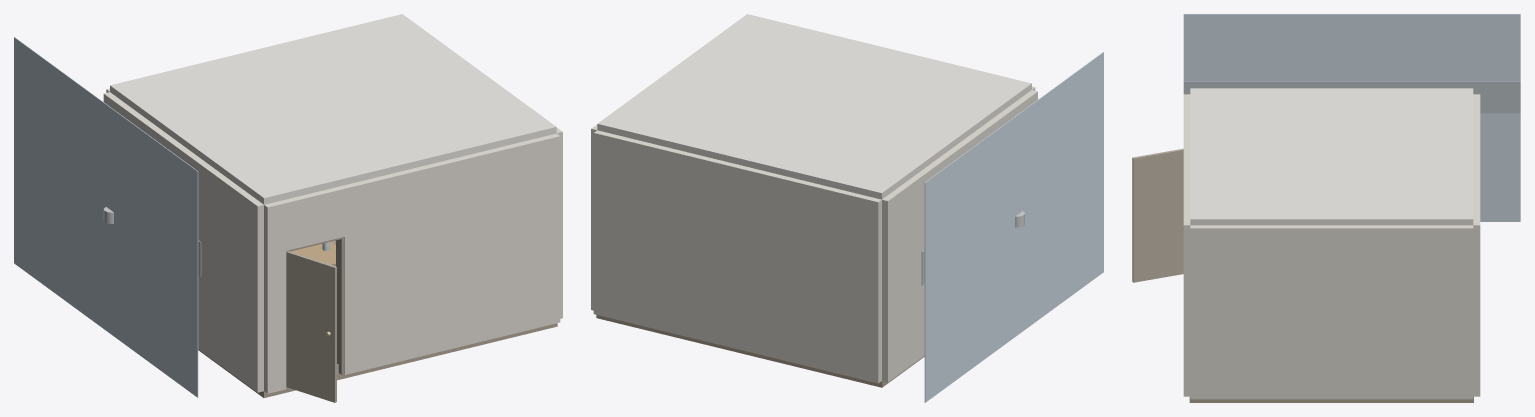
The model's file is speaking_room_set_merged_5250136341.glb.
The picture shows the model from 3 angles, left to right: view 1: azimuth 30°, elevation 25°; view 2: azimuth 150°, elevation 25°; view 3: azimuth 270°, elevation 25°; orthographic projection. The views are drawn at different scales.
Visible parts, largest first — view 1: wall_near (×3), ceiling, window_view, wall_window, door_leaf, floor, door, wall_right, exam_table; view 2: wall_back, ceiling, window_view, wall_window, floor, wall_right; view 3: wall_right, ceiling, window_view (×2), door_leaf, wall_back, wall_near, floor.
Boxes of the visible parts, box(x1,y1,x2,y2) form: wall_near (×3): box(264, 133, 560, 393); ceiling: box(110, 14, 556, 204); window_view: box(14, 37, 198, 397); wall_window: box(103, 92, 263, 392); door_leaf: box(286, 251, 336, 402); floor: box(198, 240, 557, 397); door: box(336, 237, 343, 374); wall_right: box(556, 127, 562, 318); exam_table: box(291, 241, 335, 266); wall_back: box(593, 130, 881, 383); ceiling: box(597, 14, 1031, 199); window_view: box(924, 52, 1103, 402); wall_window: box(882, 90, 1037, 382); floor: box(596, 315, 924, 387); wall_right: box(591, 124, 597, 310); wall_right: box(1190, 225, 1473, 399); ceiling: box(1190, 88, 1473, 225); window_view (×2): box(1183, 14, 1520, 221); door_leaf: box(1132, 148, 1183, 282); wall_back: box(1473, 94, 1480, 396); wall_near: box(1183, 129, 1190, 396); floor: box(1189, 396, 1473, 402).
Size of the model in its own units: 5.89 by 3.7 by 5.76.
